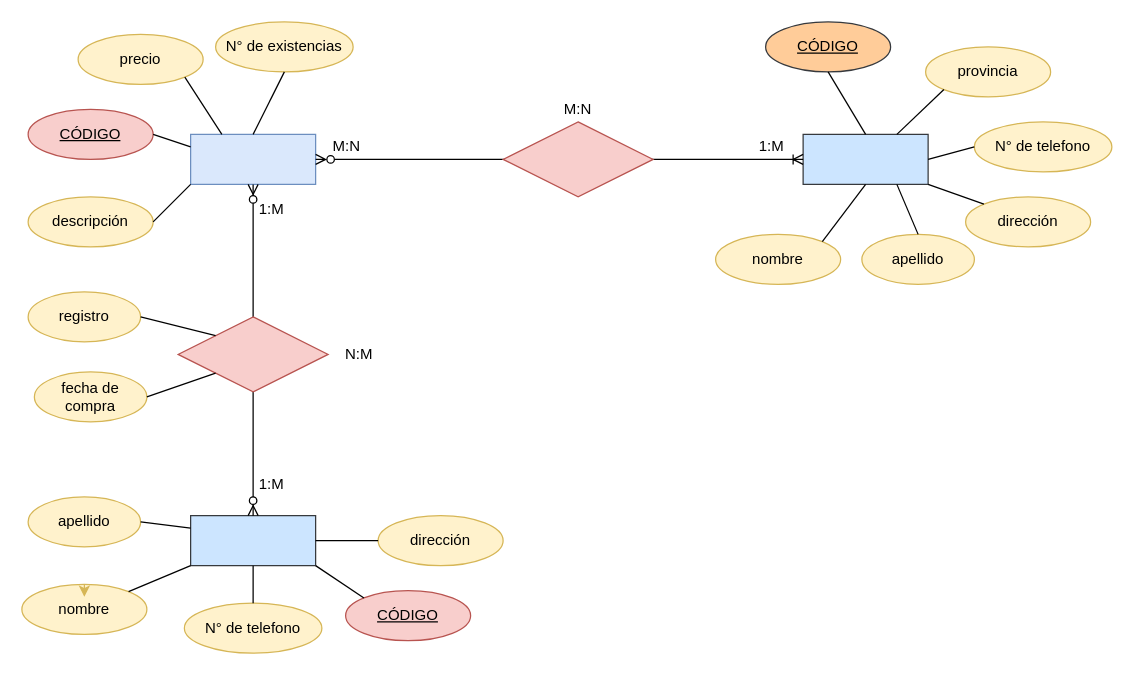
This 1134x675 diagram has some shape labels left out. Here are the shapes that lost their labels. From the top down, the centre of each, then its label:
the point at 252,158: PRODUCTO
the point at 577,159: suministran
the point at 865,158: PROVEEDOR
the point at 252,354: comprar
the point at 252,540: CLIENTE
